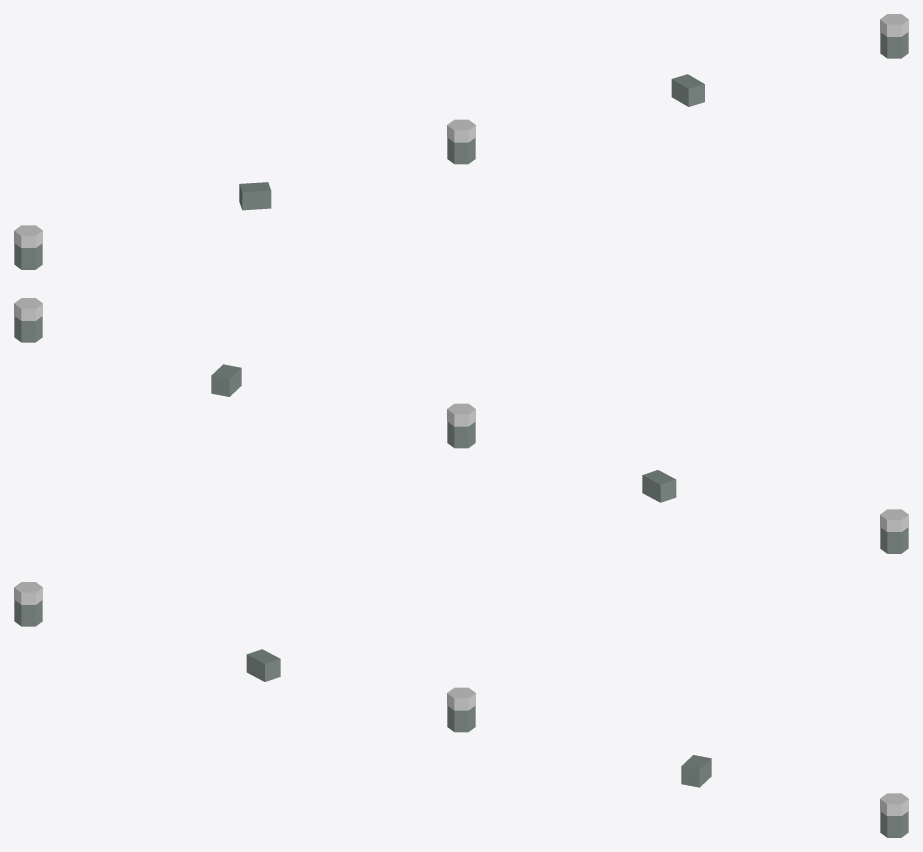
Rendered from SM_Balizas_v3_Rotas_LOD1.fbx.
3 renders of one model, top to bottom at view 1: azimuth 30°, elevation 25°; view 2: azimuth 150°, elevation 25°; view 3: azimuth 330°, elevation 25°, orthographic.
Parts seen in each view (by area): view 1: SM_ambiente_aerodromo_v8_LOD1; view 2: SM_ambiente_aerodromo_v8_LOD1; view 3: SM_ambiente_aerodromo_v8_LOD1.
Part boxes in pixels (x1,y1,x2,y2): SM_ambiente_aerodromo_v8_LOD1: (14,14,908,269); SM_ambiente_aerodromo_v8_LOD1: (14,298,908,553); SM_ambiente_aerodromo_v8_LOD1: (14,582,908,837).
Bounding box in the file's own units: 12.3 × 0.45 × 0.4615.
